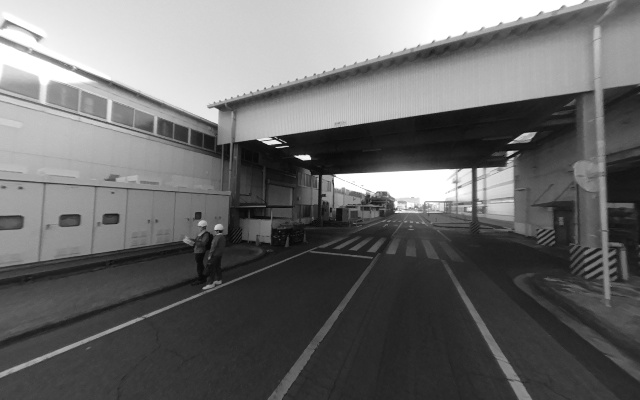bollard: (570, 243, 622, 285), (536, 226, 555, 249), (230, 226, 244, 248), (469, 222, 481, 242)
